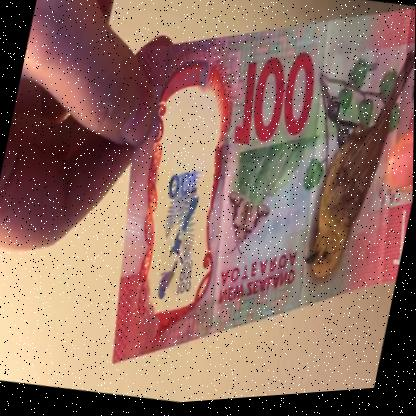100B: (139, 154, 218, 315)
